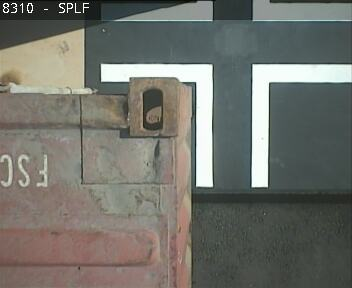groundmarker_1: (99, 63, 351, 188)
